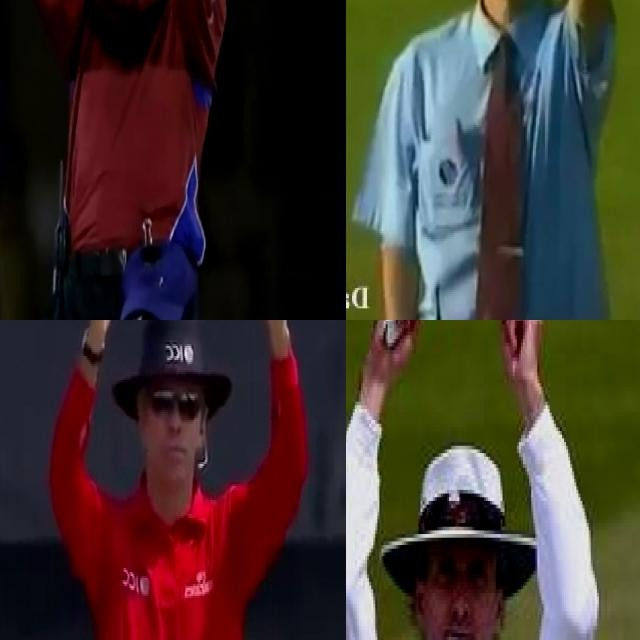Out: (360, 0, 622, 320)
Six: (346, 320, 614, 640), (50, 320, 312, 640), (29, 0, 234, 320)
